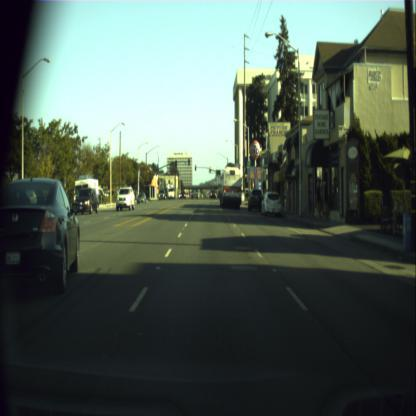Red: (209, 166, 211, 174), (194, 164, 196, 170)
